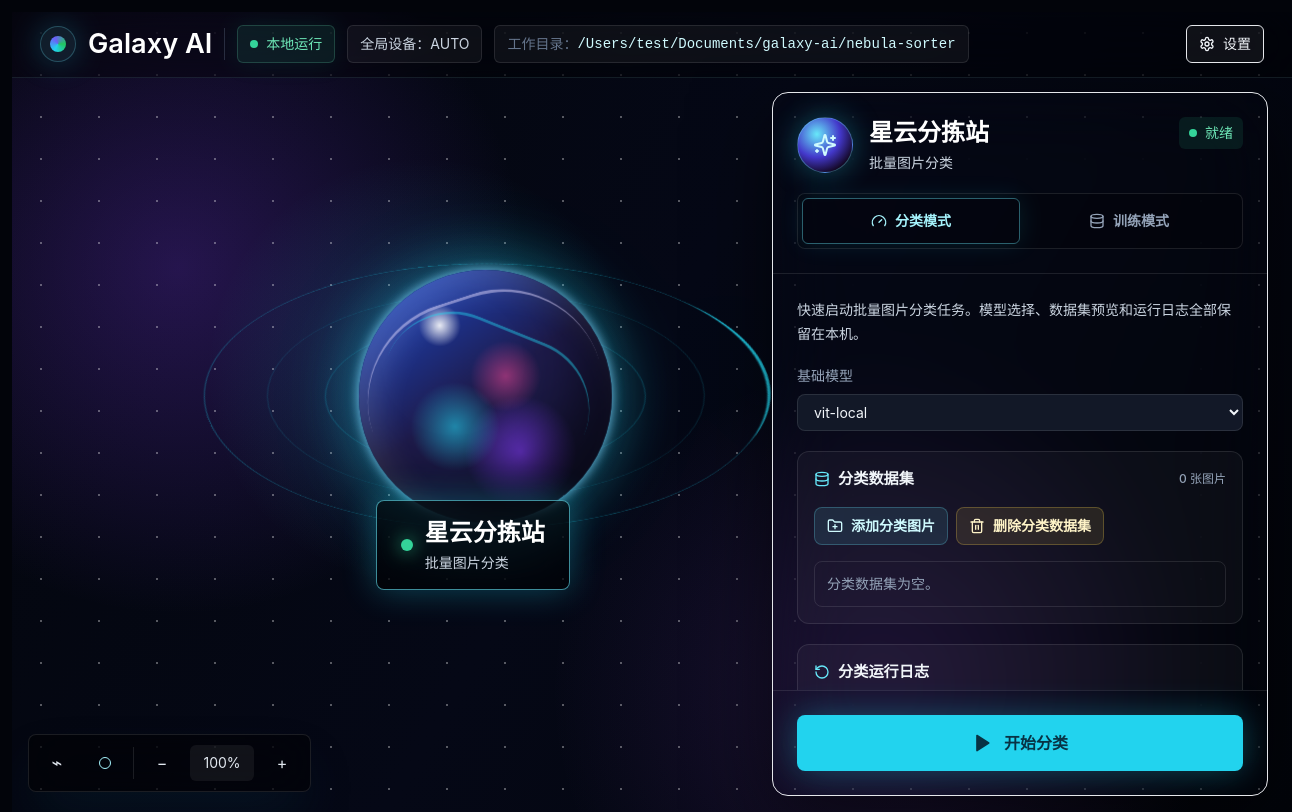
Test case: Galaxy AI home › switches between classification and training modes
Step 1. Click the tab "训练模式" → (1129, 221), box 1020,198 -> 1238,244
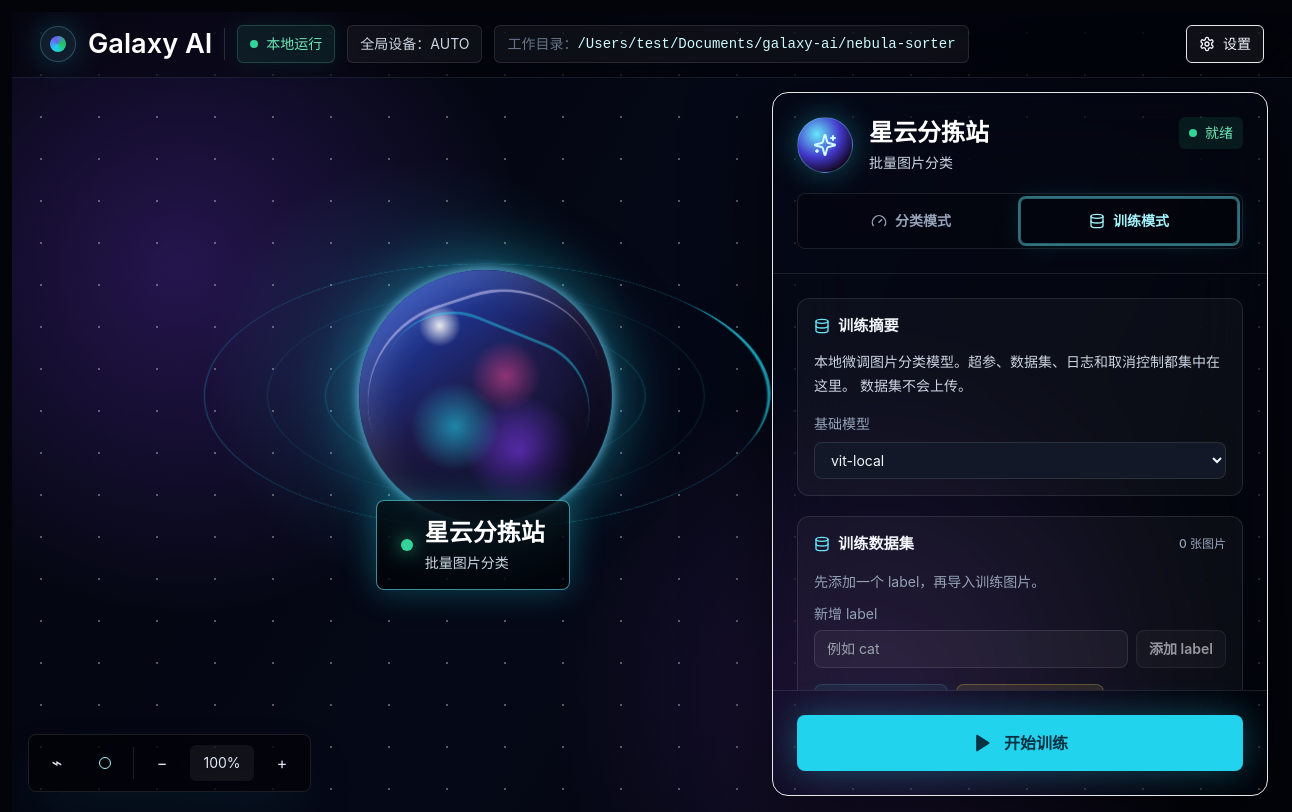
Now the text "训练摘要" is shown, box 814,316 -> 899,335
Step 2. Click the tab "分类模式" → (911, 221), box 802,198 -> 1020,244
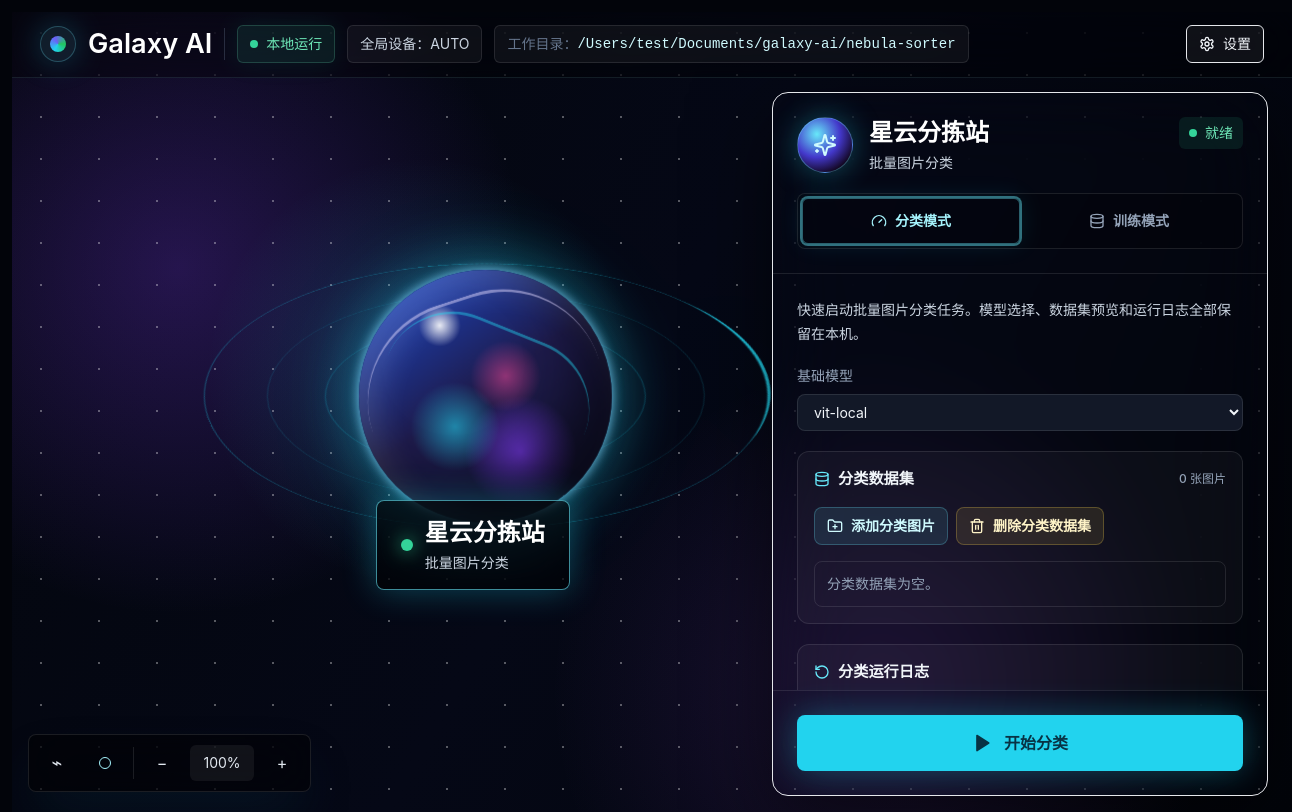
Now the text "快速启动批量图片分类任务。模型选择、数据集预览和运行日志全部保留在本机。" is shown, box 797,298 -> 1243,346
